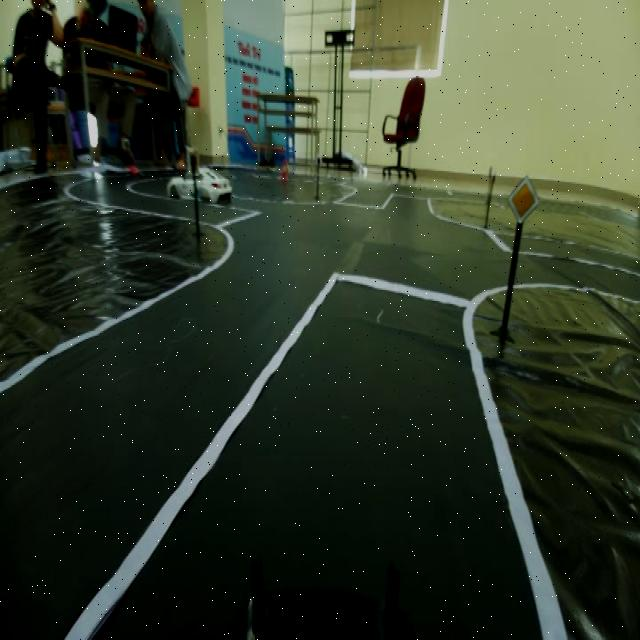priority: (505, 167, 546, 246)
